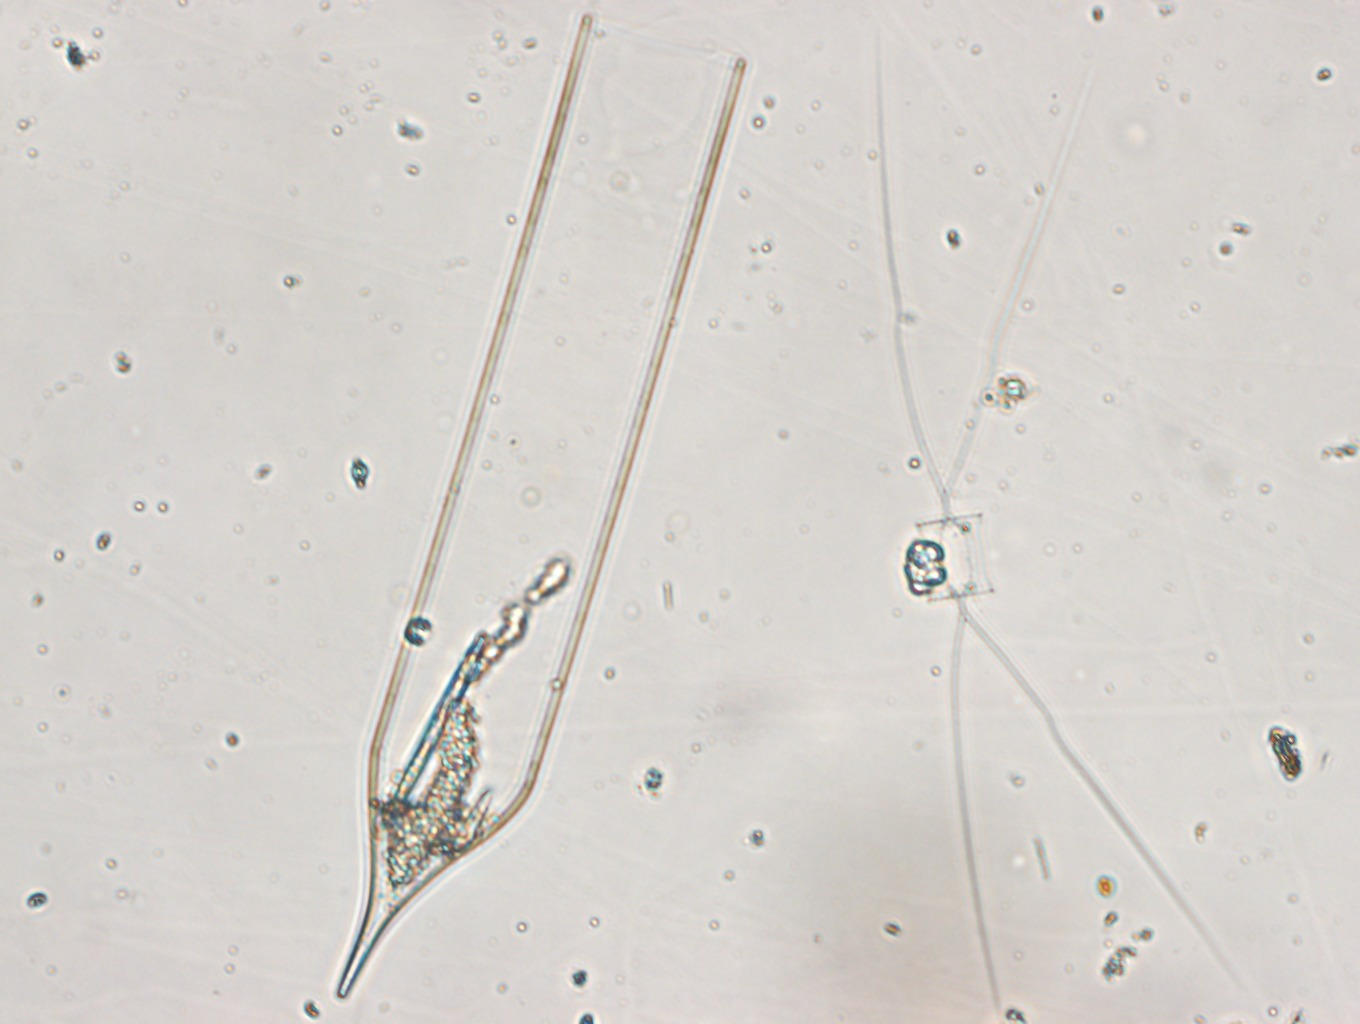chaetoceros: (868, 24, 1274, 1016)
rhizosolenia: (330, 11, 747, 1002)
